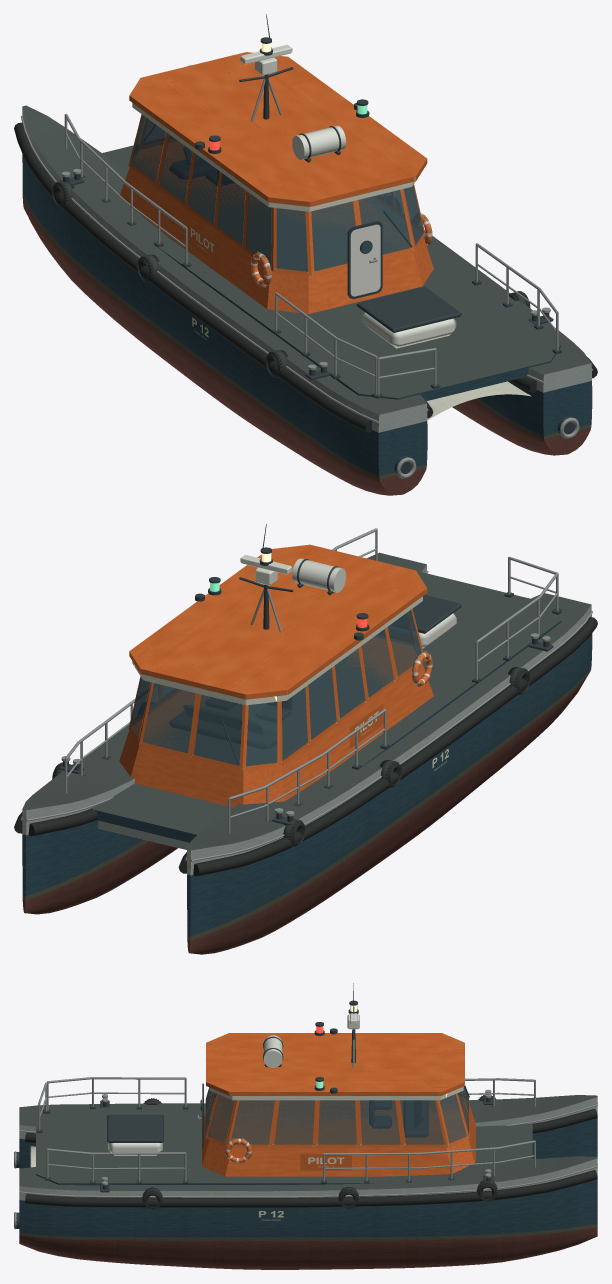
File: pilot.glb
The picture shows the model from 3 angles, top to bottom: view 1: azimuth 30°, elevation 25°; view 2: azimuth 150°, elevation 25°; view 3: azimuth 270°, elevation 25°; orthographic projection. The views are drawn at different scales.
Visible parts, largest first — view 1: pilot_assembly; view 2: pilot_assembly; view 3: pilot_assembly.
Part boxes in pixels (left/top/right/bottom): pilot_assembly: left=14, top=14, right=597, bottom=495; pilot_assembly: left=14, top=524, right=597, bottom=954; pilot_assembly: left=14, top=983, right=597, bottom=1269.
Bounding box in the file's own units: 4.59 × 5.81 × 12.02.
14 materials, 3 textured.
